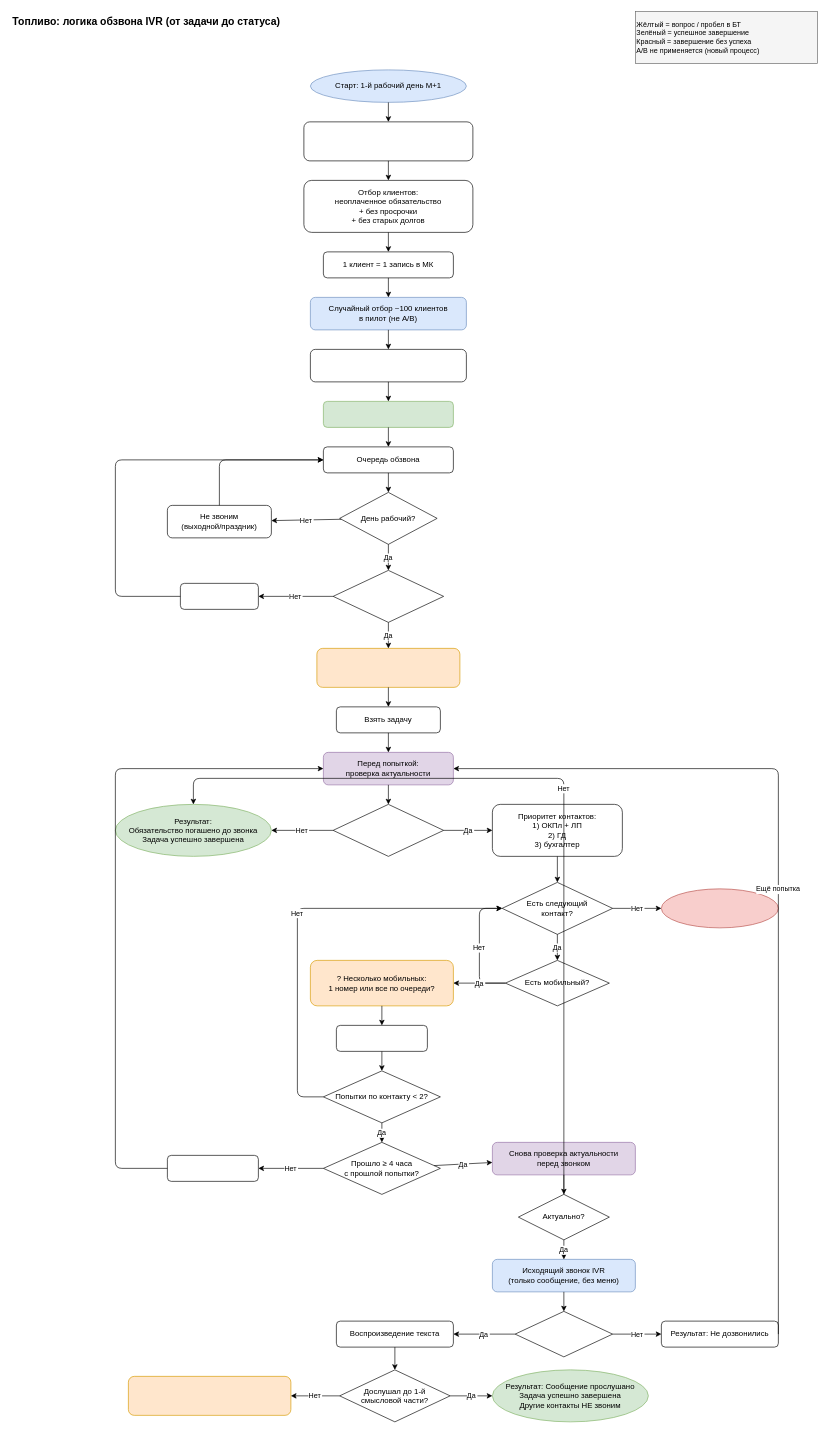
Image size: 829x1433. Some labels were removed from this diagram. The centre of each missing label's shape, as x and y in pixels:
"1 клиент = 1 задача" belongs at point 388,414.
"? Когда стартовать: сразу с утра / равномерно / слоты?" belongs at point 388,667.
"Время по TZ клиента рабочее?" belongs at point 388,596.
"Выбрать номер" belongs at point 381,1038.
"Ждать" belongs at point 219,596.
"Ждать 4 часа" belongs at point 212,1168.
"Клиент ответил?" belongs at point 563,1334.
"Не дозвонились Задача завершена" belongs at point 719,908.
"Обязательство актуально?" belongs at point 388,830.
"Передать признак актуальности обязательства (бинарное поле)" belongs at point 388,365.
"Результат: Сообщение не прослушано ? След. попытка / контакт / стоп?" belongs at point 209,1395.
"Формирование МК «Напоминания по топливной программе»" belongs at point 388,141.
